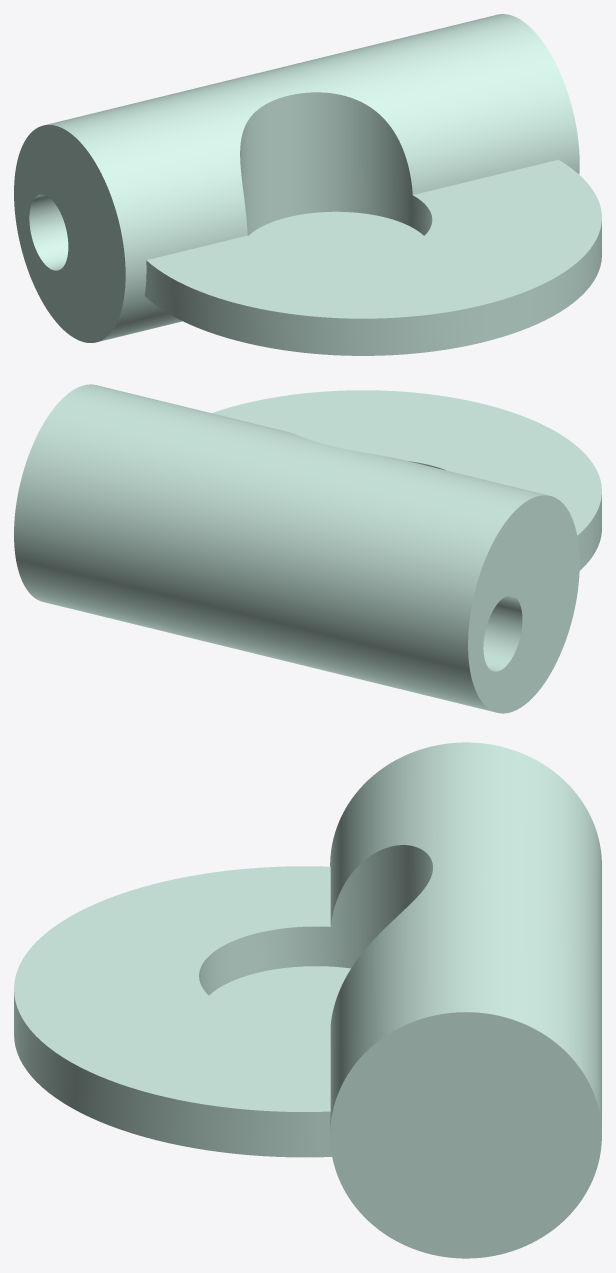
3 views of the same model, one above another, from view 1: azimuth 30°, elevation 25°; view 2: azimuth 150°, elevation 25°; view 3: azimuth 270°, elevation 25° (orthographic). The views are drawn at different scales.
Visible parts, largest first — view 1: Renderer Node; view 2: Renderer Node; view 3: Renderer Node.
Boxes of the visible parts, x1,y1,x2,y2 form: Renderer Node: (14,14,601,355); Renderer Node: (14,384,601,713); Renderer Node: (14,742,601,1258).
Size of the model in its own units: 0.7969 by 0.3395 by 0.7341.
